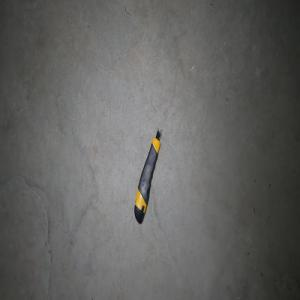Cutter: (133, 130, 162, 225)
